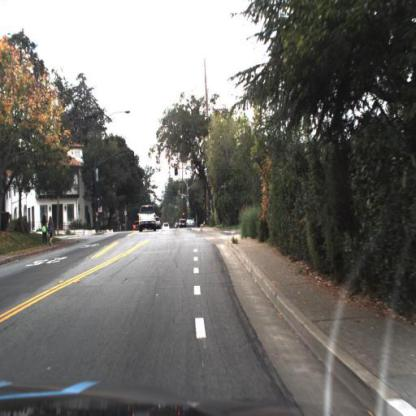car: (140, 206, 157, 233), (187, 219, 196, 230), (180, 220, 188, 228)
pedestrian: (41, 214, 49, 245), (48, 214, 54, 248)
trafficLight-Red: (175, 163, 180, 178), (98, 198, 102, 205)
